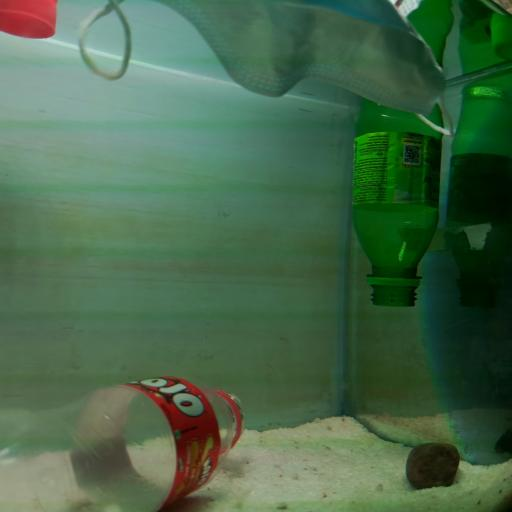bottle_cap: (0, 0, 60, 41)
mask: (77, 2, 509, 138)
plastic_bottle: (3, 370, 253, 512), (356, 6, 440, 305)
